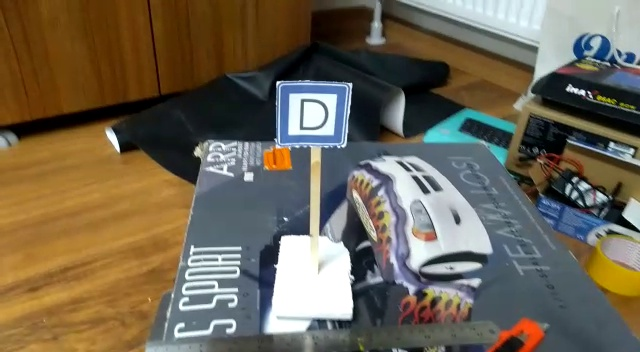durak: (276, 84, 338, 142)
